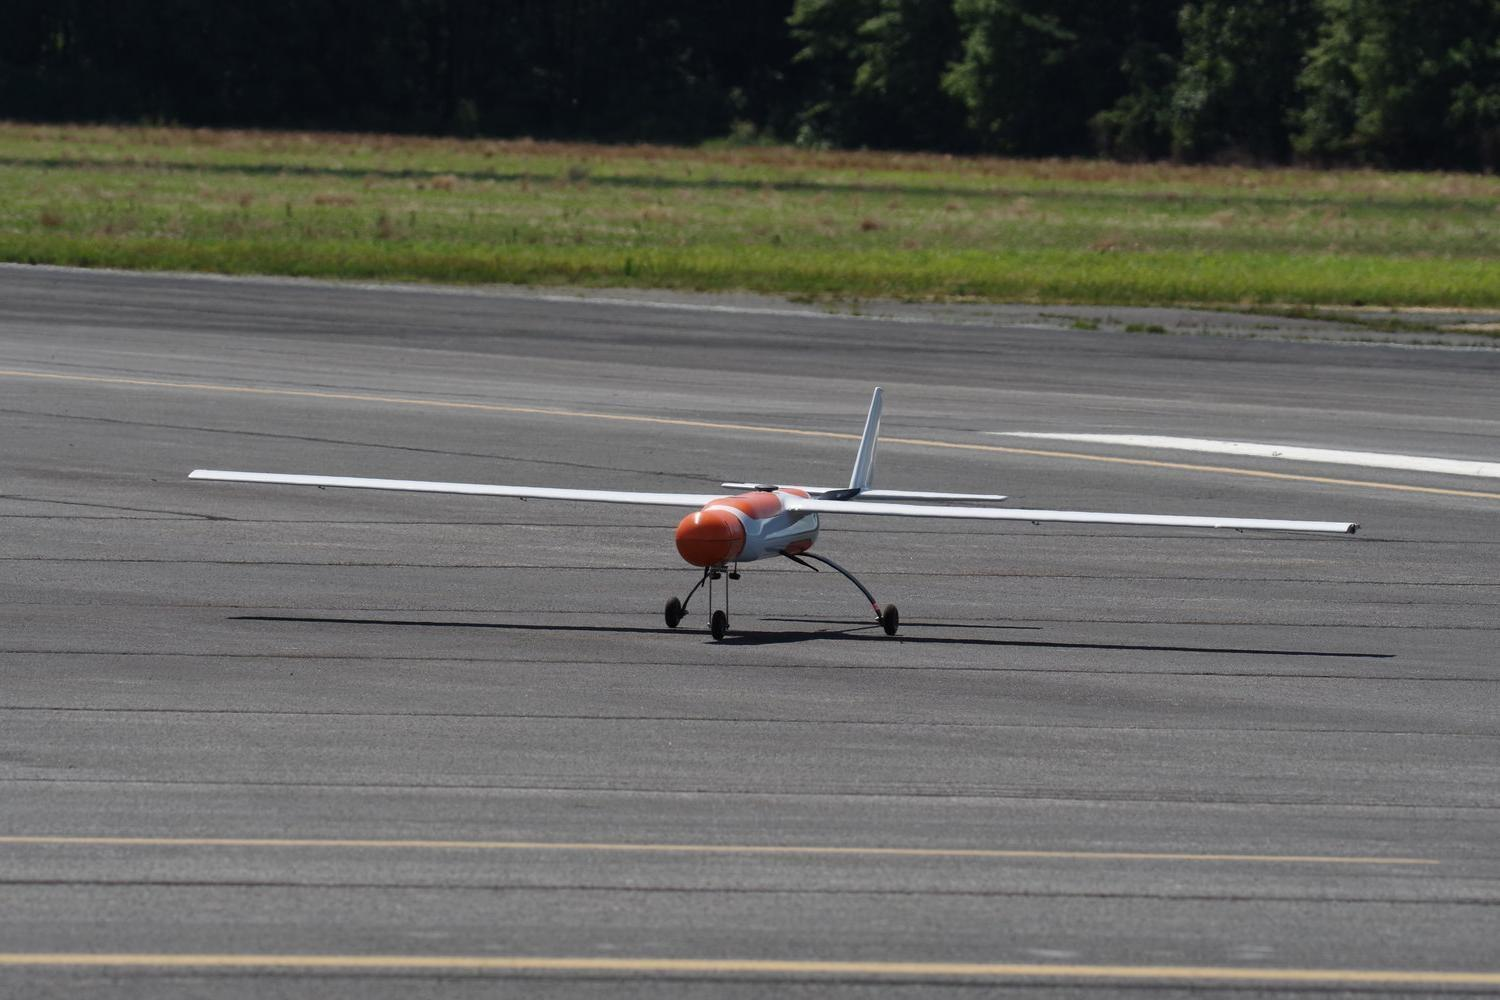Airplane: (157, 383, 1379, 658)
